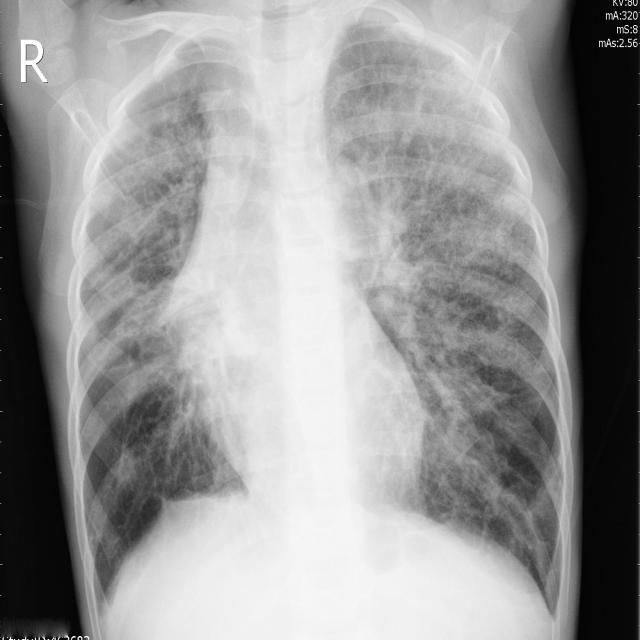low-pneumonia: (343, 102, 494, 425), (104, 264, 201, 479), (103, 116, 215, 247)
